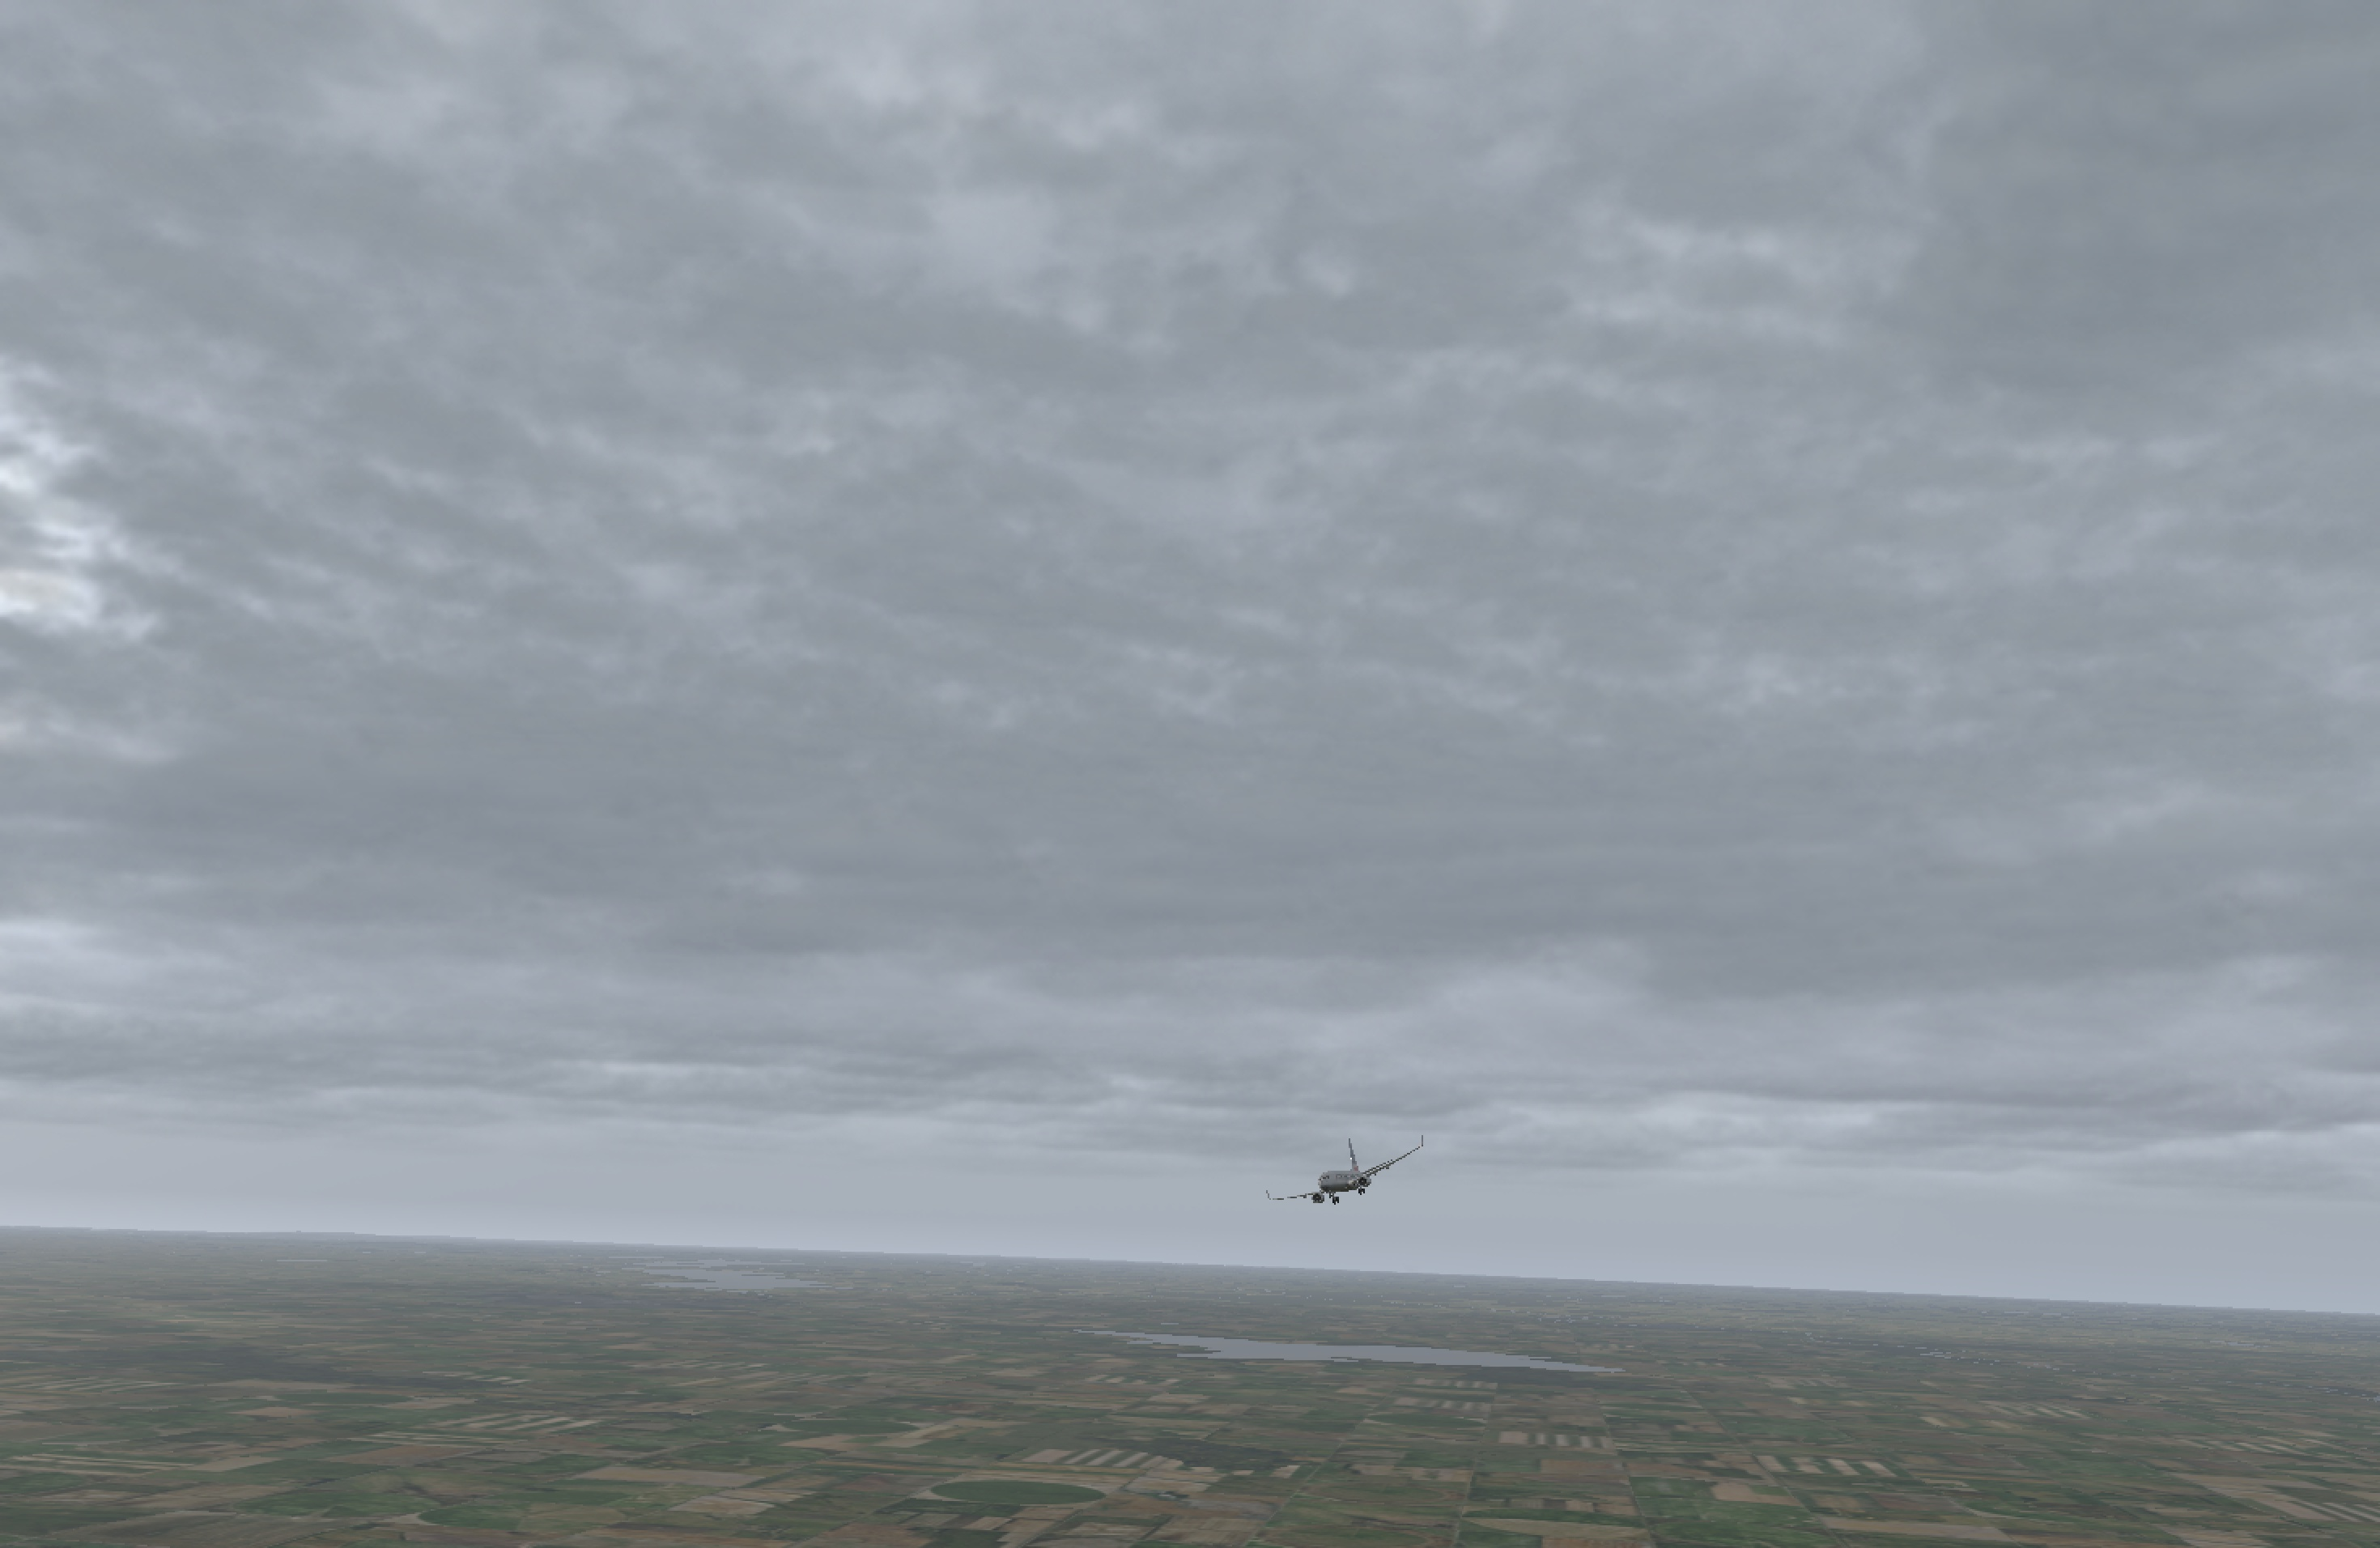aircraft: (1247, 1149, 1438, 1220)
